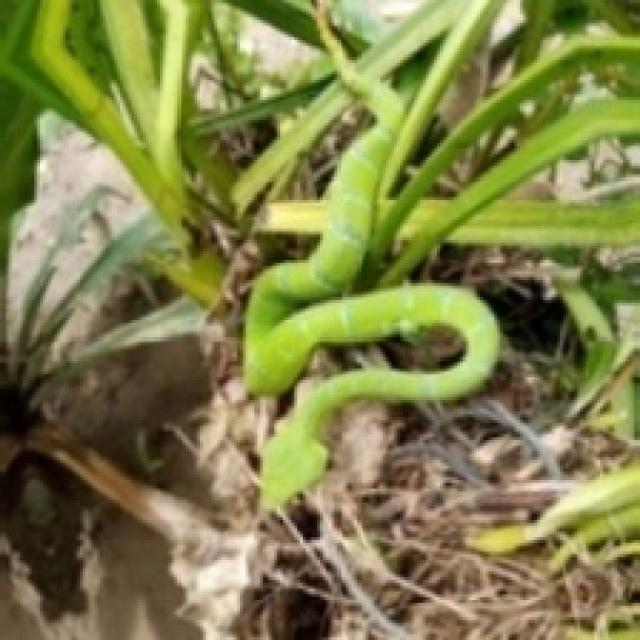north ph temple pitviper: (243, 0, 497, 506)
